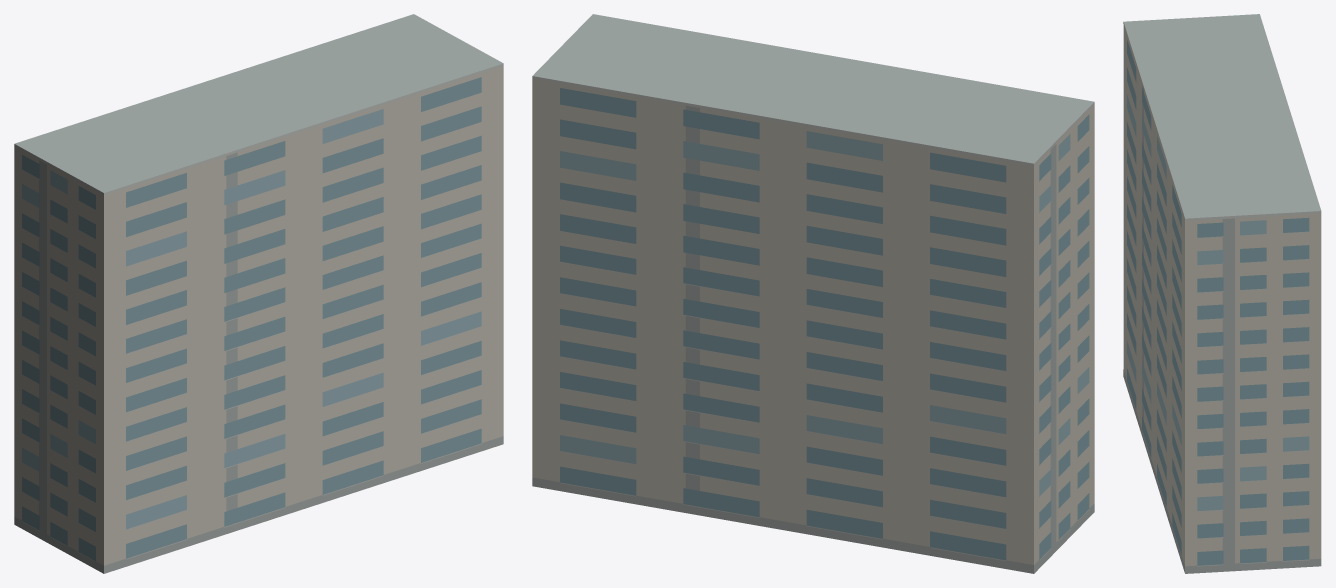
Rendered from residential-3fcda1fd-eea6-42c9-b074-aa3aea60b5a6.glb.
The picture shows the model from 3 angles, left to right: view 1: azimuth 30°, elevation 25°; view 2: azimuth 150°, elevation 25°; view 3: azimuth 270°, elevation 25°; orthographic projection. The views are drawn at different scales.
Parts seen in each view (by area): view 1: residential-3fcda1fd-eea6-42c9-b074-aa3aea60b5a6.tmp; view 2: residential-3fcda1fd-eea6-42c9-b074-aa3aea60b5a6.tmp; view 3: residential-3fcda1fd-eea6-42c9-b074-aa3aea60b5a6.tmp.
Part boxes in pixels (bbox=[...]): residential-3fcda1fd-eea6-42c9-b074-aa3aea60b5a6.tmp: bbox=[14, 14, 503, 573]; residential-3fcda1fd-eea6-42c9-b074-aa3aea60b5a6.tmp: bbox=[532, 14, 1094, 573]; residential-3fcda1fd-eea6-42c9-b074-aa3aea60b5a6.tmp: bbox=[1123, 14, 1321, 573].
Size of the model in its own units: 43.24 by 35 by 17.68.
